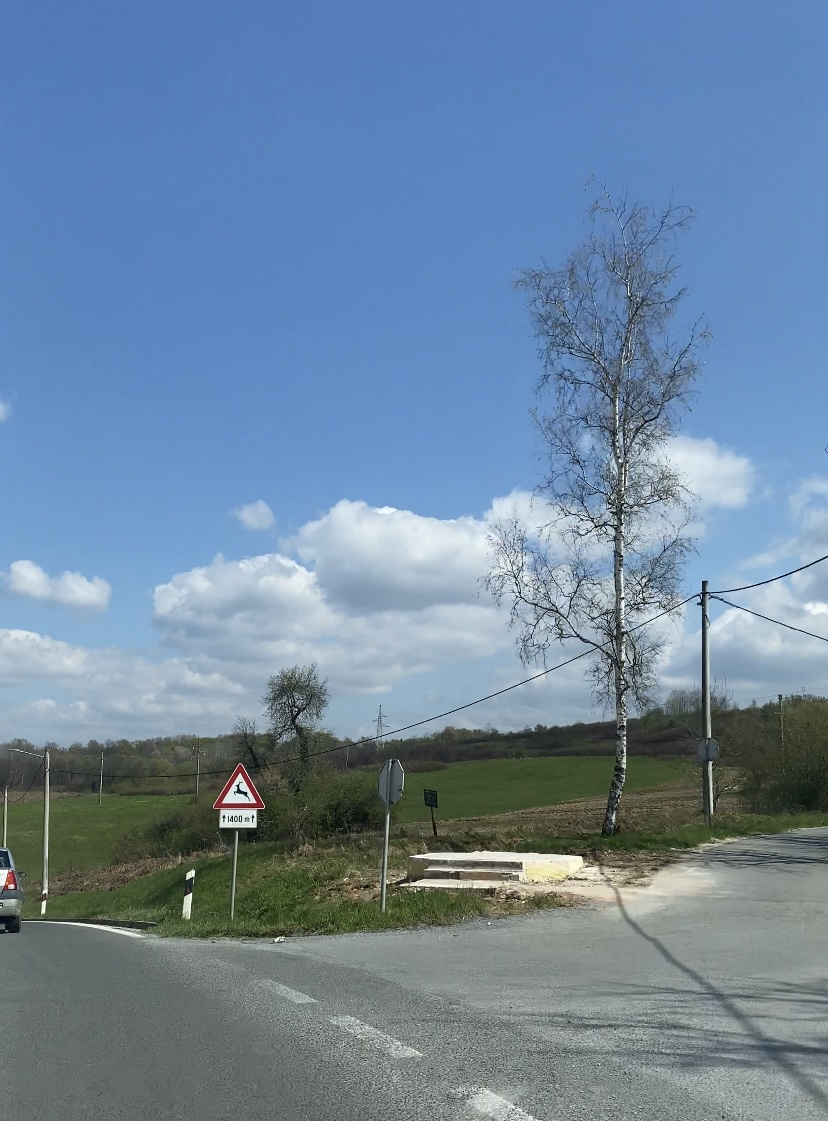Divljač na cesti: (213, 762, 265, 809)
